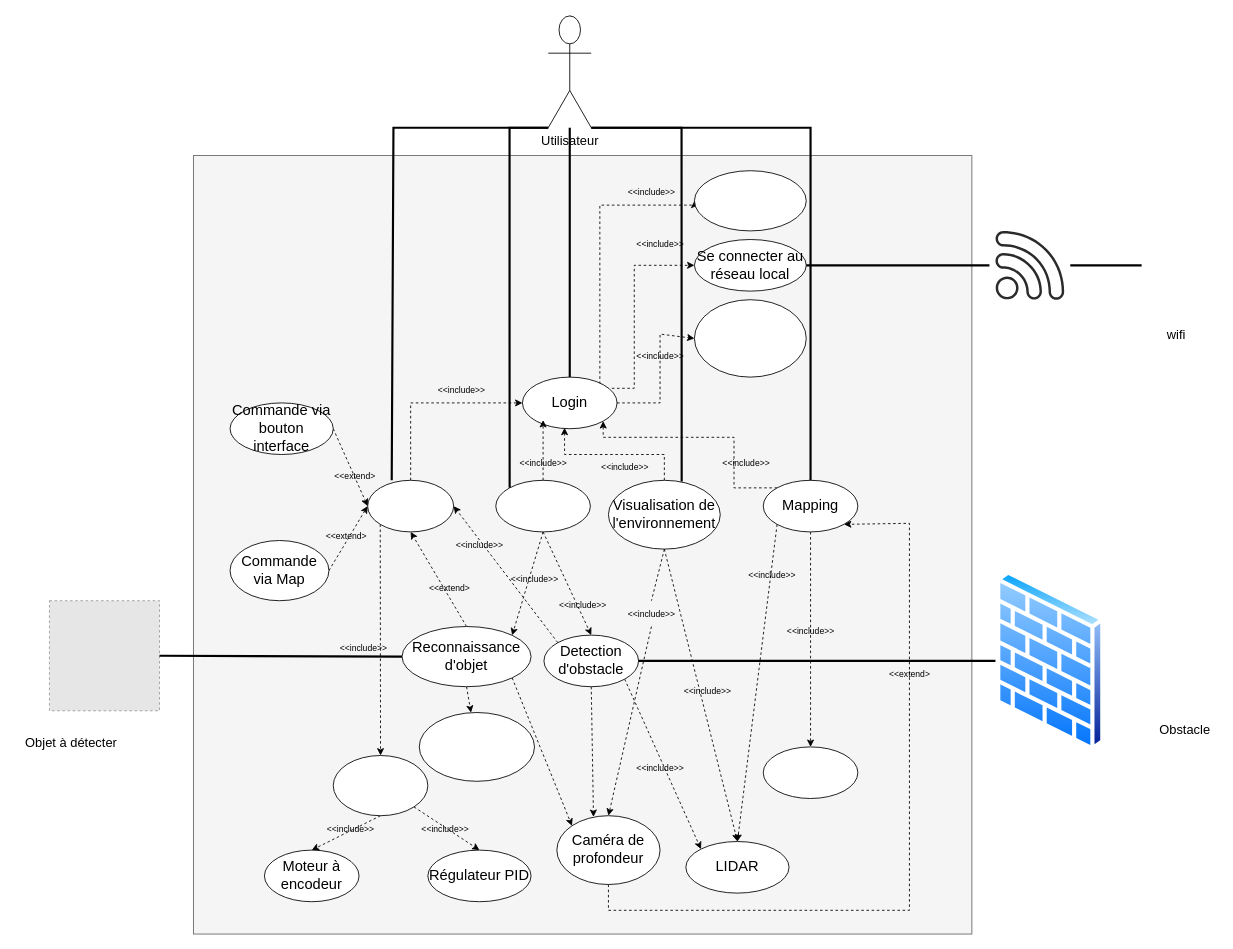
The diagram is 1233 pixels wide and 949 high, and some of its shapes have lost their labels. Grey dashed boxes stand in for pictures. The centre of each missing label's shape, as x and y in pixels:
"Algorithme de Machine Learning" goes at (x=476, y=746).
"Algorithme de SLAM" goes at (x=810, y=772).
"Commande manuel" goes at (x=410, y=505).
"Entrer l'adresse de l'interface web" goes at (x=750, y=338).
"Odometrie" goes at (x=380, y=785).
"Recherche d'objet" goes at (x=542, y=505).
"Verification de login" goes at (x=750, y=200).
